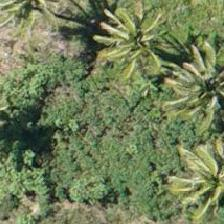coconut_tree: (97, 0, 187, 86), (168, 44, 223, 134), (169, 133, 223, 223)
